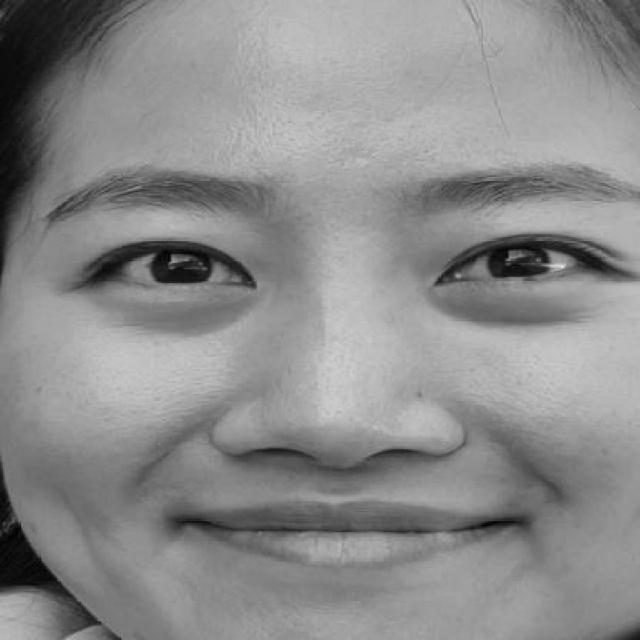happy: (63, 143, 640, 592)
